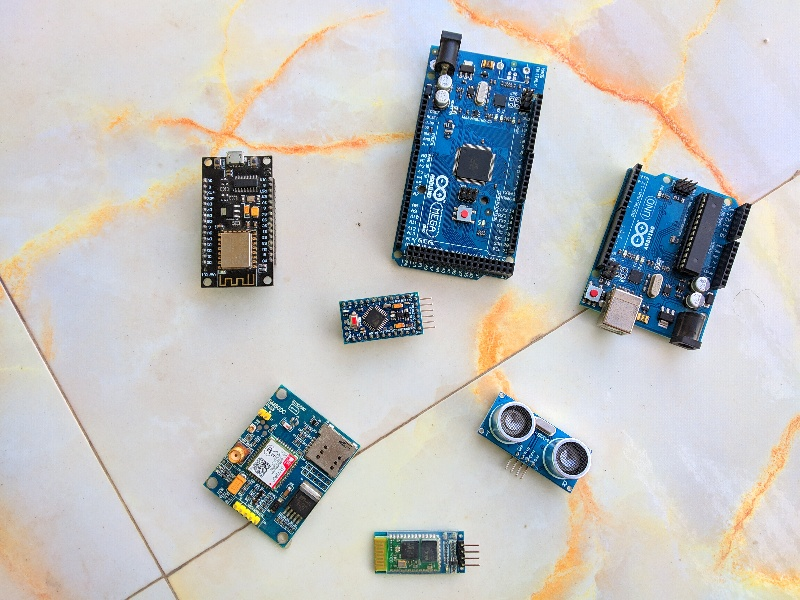Arduino Mega 2560: (388, 25, 555, 286)
Arduino Pro Mini: (332, 290, 446, 343)
Arduino UNO: (573, 161, 760, 357)
HC-05: (368, 528, 482, 580)
NodeMCU: (194, 147, 281, 294)
SIM800: (198, 379, 365, 552)
Sonar Sensor: (474, 385, 599, 504)
